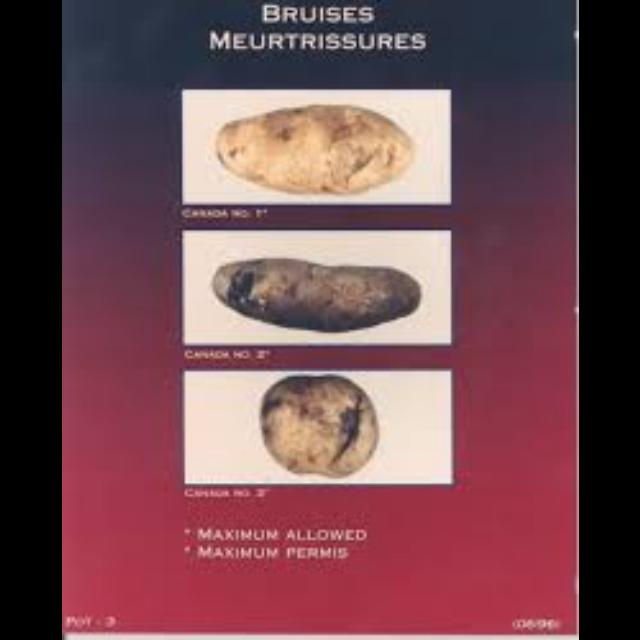Defected potato: (206, 241, 432, 341)
Diseased-fungal potato: (214, 98, 424, 198), (256, 371, 388, 481)
